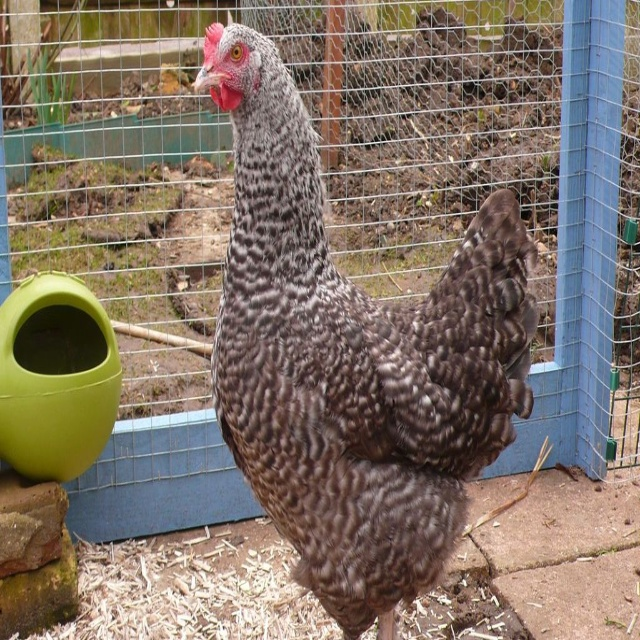Chicken: (199, 23, 550, 640)
